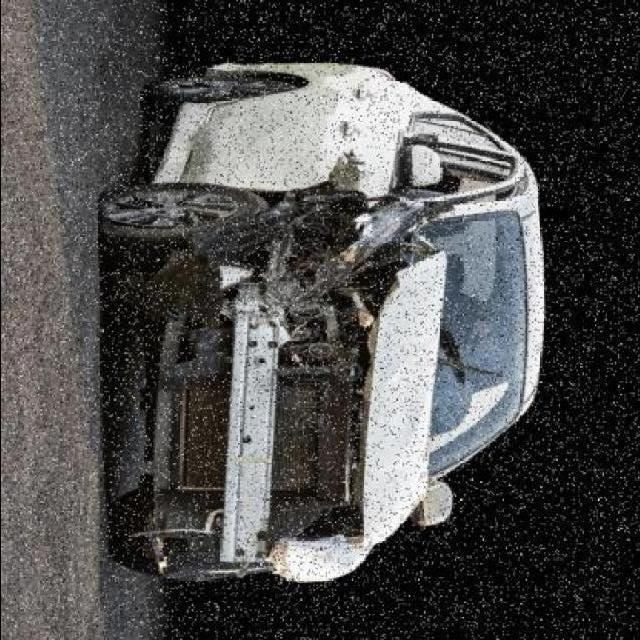bonnet-dent: (330, 240, 454, 551)
